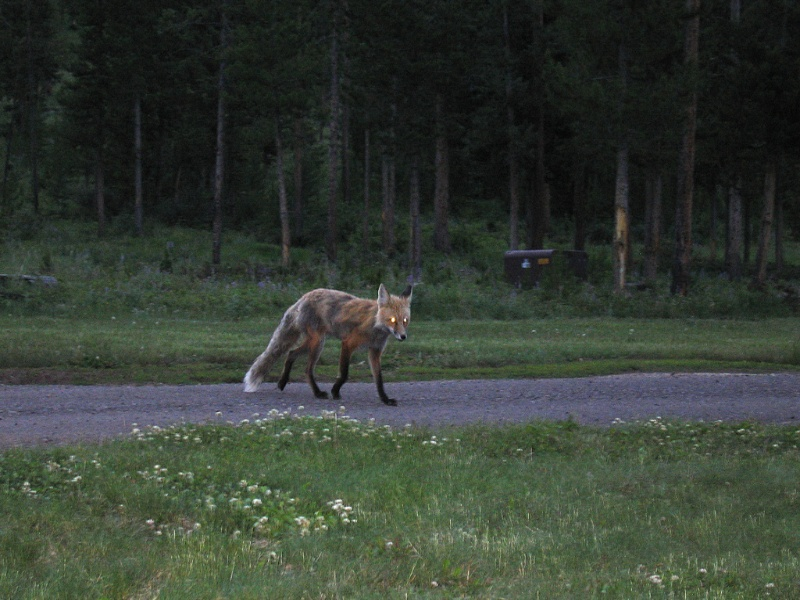fox: (242, 283, 420, 412)
